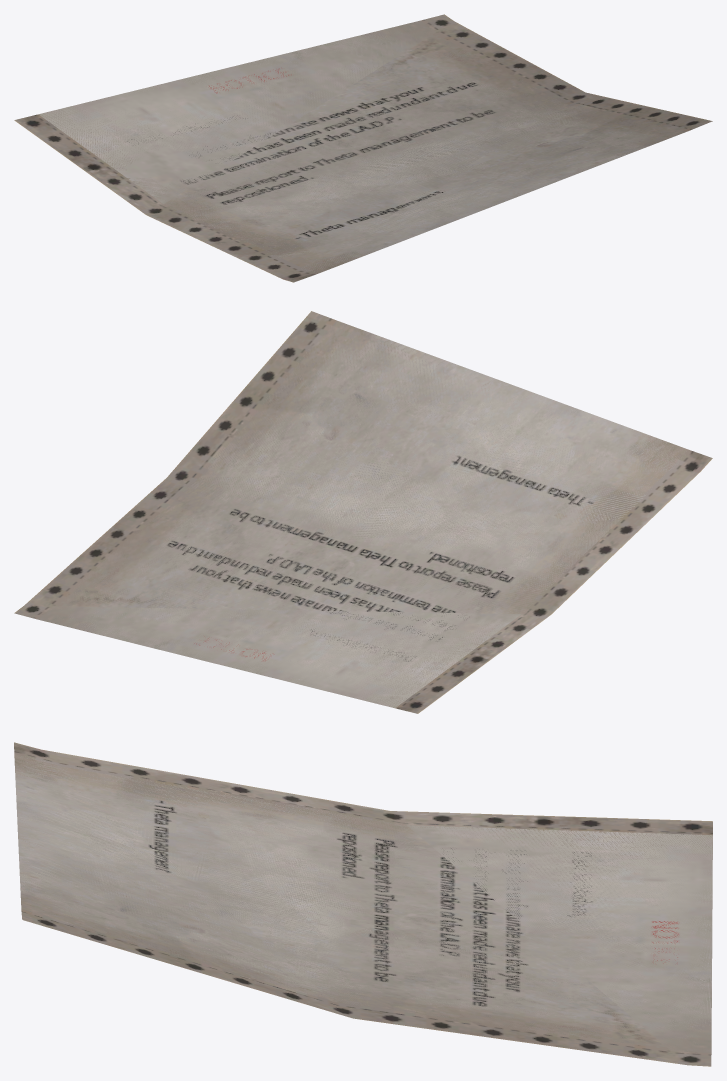
The model's file is notes_mission_aborted_03.dae.
3 renders of one model, top to bottom at view 1: azimuth 30°, elevation 25°; view 2: azimuth 150°, elevation 25°; view 3: azimuth 270°, elevation 25°, orthographic. The views are drawn at different scales.
Visible parts, largest first — view 1: personal; view 2: personal; view 3: personal.
Part boxes in pixels (x1,y1,x2,y2): personal: (14, 14, 712, 282); personal: (14, 311, 712, 713); personal: (14, 742, 712, 1066).
Bounding box in the file's own units: 0.218 × 0.0534 × 0.2507.
